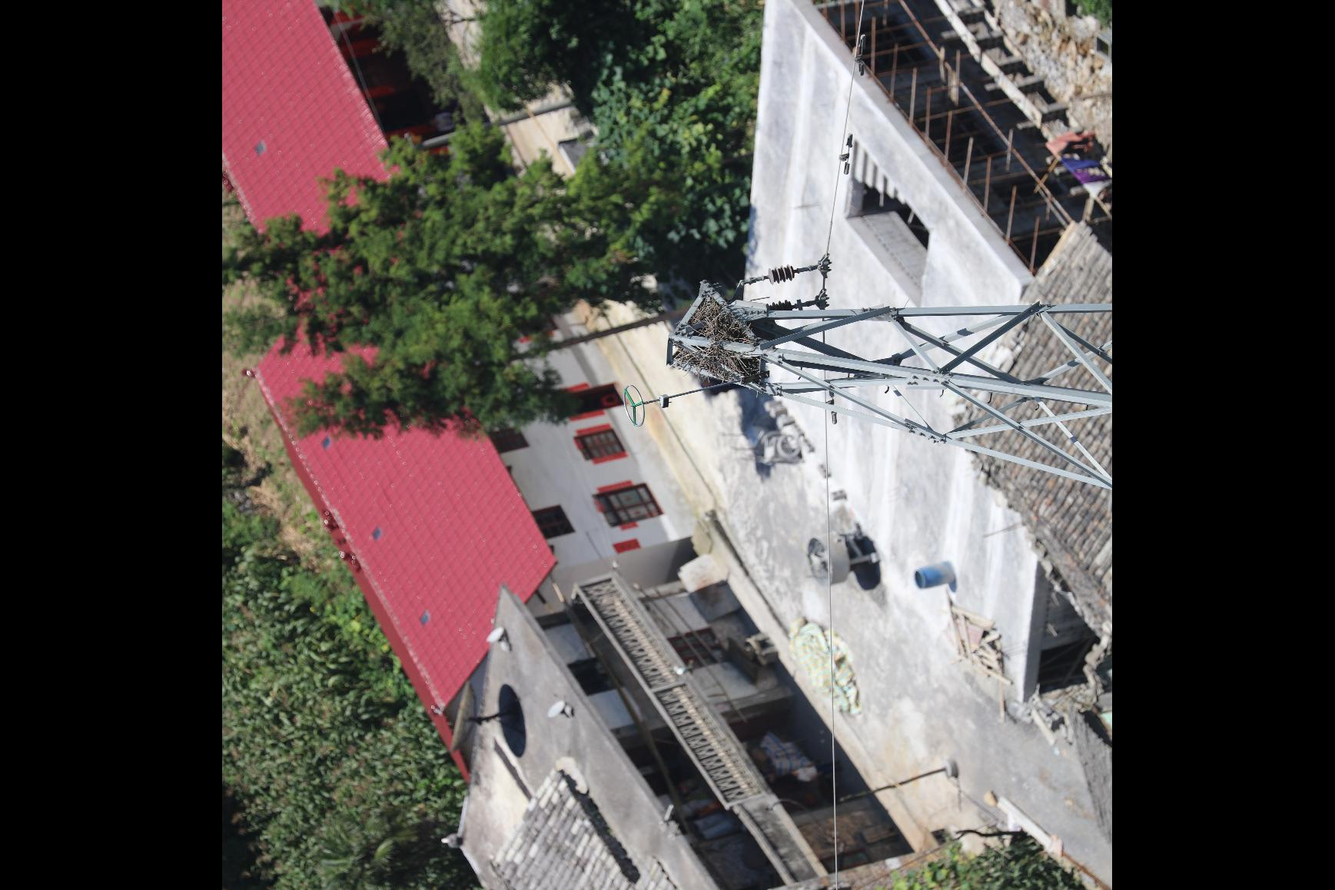damper: (837, 132, 855, 177), (851, 32, 868, 78), (822, 383, 839, 427)
nest: (671, 294, 757, 382)
